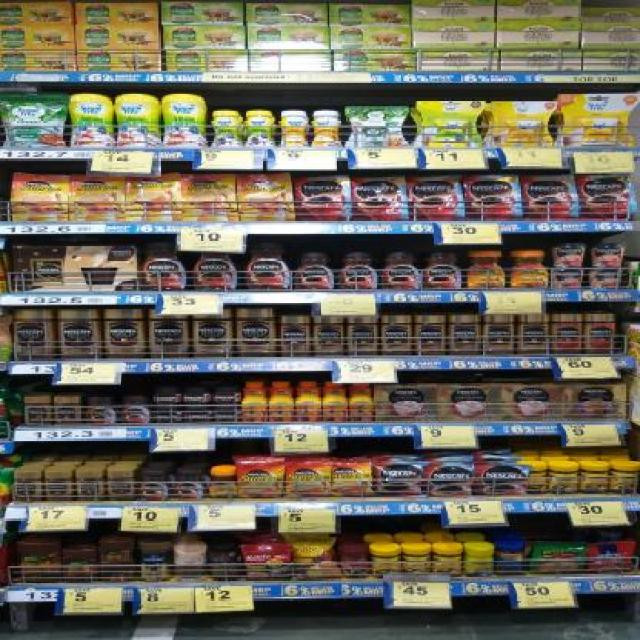Coffee: (11, 172, 69, 220), (70, 172, 126, 220), (465, 174, 521, 220), (182, 174, 236, 221), (238, 174, 293, 220), (408, 174, 463, 220), (128, 173, 180, 221), (582, 174, 638, 218), (296, 176, 349, 221), (525, 175, 577, 220), (354, 177, 408, 220), (246, 242, 292, 292), (140, 242, 186, 290), (193, 243, 238, 291), (150, 308, 190, 358), (194, 308, 234, 358), (13, 310, 53, 360), (60, 310, 100, 359), (105, 309, 143, 359), (237, 309, 274, 357), (475, 463, 527, 495), (375, 462, 423, 496), (424, 465, 473, 497), (382, 252, 422, 291), (337, 253, 378, 290), (238, 464, 282, 498), (467, 251, 505, 289), (296, 253, 335, 290), (285, 463, 327, 497), (510, 250, 547, 288), (424, 252, 461, 290), (332, 464, 373, 498), (312, 315, 345, 356), (517, 314, 549, 355), (280, 316, 312, 356), (380, 316, 411, 356), (347, 316, 378, 355), (450, 316, 481, 355), (484, 316, 514, 356), (416, 316, 446, 356), (322, 381, 347, 422), (85, 396, 117, 426), (120, 396, 151, 426), (138, 471, 170, 500), (172, 471, 206, 498), (207, 470, 238, 499), (351, 381, 372, 422), (44, 472, 73, 501), (272, 382, 293, 422), (13, 472, 41, 502), (75, 472, 103, 501), (25, 396, 52, 426), (108, 471, 135, 500), (245, 381, 264, 422), (300, 381, 318, 422), (54, 396, 78, 424), (182, 387, 212, 404), (153, 407, 181, 424), (154, 388, 181, 404), (215, 387, 240, 404), (185, 408, 212, 423), (216, 408, 238, 423)
